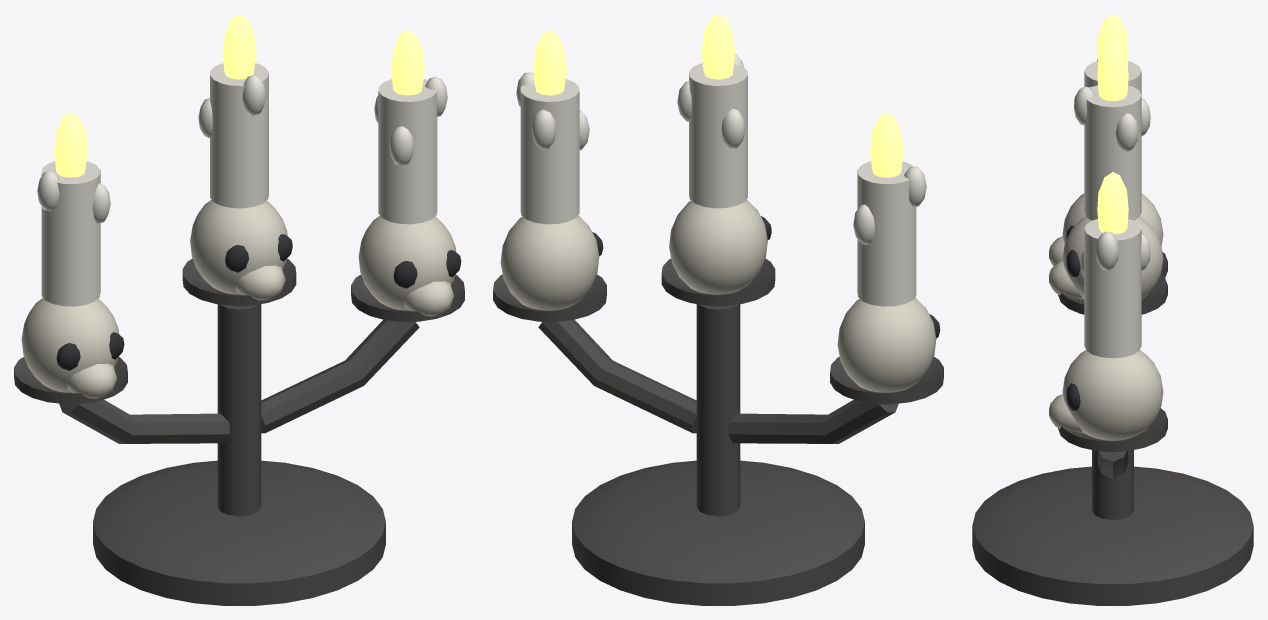
The model's file is top_candelabra.fbx.
The picture shows the model from 3 angles, left to right: view 1: azimuth 30°, elevation 25°; view 2: azimuth 150°, elevation 25°; view 3: azimuth 270°, elevation 25°; orthographic projection. The views are drawn at different scales.
Parts seen in each view (by area): view 1: iron_1, cream_1, bone_1, glow_ember_1, dark_1; view 2: iron_1, cream_1, bone_1, glow_ember_1; view 3: iron_1, cream_1, bone_1, glow_ember_1, dark_1.
Part boxes in pixels (bbox=[...]): iron_1: bbox=[14, 258, 464, 605]; cream_1: bbox=[37, 63, 447, 306]; bone_1: bbox=[21, 200, 456, 398]; glow_ember_1: bbox=[54, 14, 424, 177]; dark_1: bbox=[56, 234, 461, 370]; iron_1: bbox=[493, 258, 943, 605]; cream_1: bbox=[516, 54, 926, 306]; bone_1: bbox=[500, 199, 936, 392]; glow_ember_1: bbox=[533, 14, 903, 177]; iron_1: bbox=[972, 252, 1253, 605]; cream_1: bbox=[1074, 59, 1150, 358]; bone_1: bbox=[1049, 193, 1163, 440]; glow_ember_1: bbox=[1097, 14, 1128, 234]; dark_1: bbox=[1066, 225, 1080, 410].
Size of the model in its own units: 0.0406 by 0.0472 by 0.0236.
